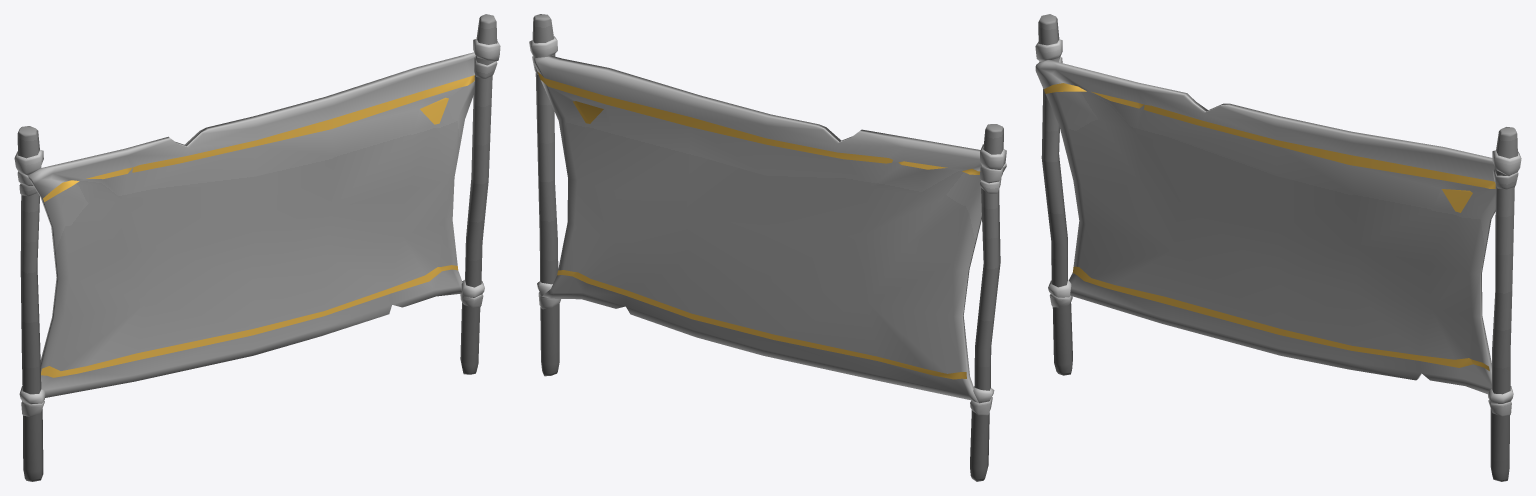
The model's file is PropScreenYellow.glb.
3 views of the same model, side by side, from view 1: azimuth 30°, elevation 25°; view 2: azimuth 150°, elevation 25°; view 3: azimuth 330°, elevation 25° (orthographic).
Visible parts, largest first — view 1: PropScreenYellow; view 2: PropScreenYellow; view 3: PropScreenYellow.
Boxes of the visible parts, x1=… form: PropScreenYellow: x1=14, y1=14, x2=500, y2=481; PropScreenYellow: x1=529, y1=14, x2=1006, y2=481; PropScreenYellow: x1=1035, y1=14, x2=1521, y2=481.
Size of the model in its own units: 35.67 by 25.27 by 2.67.
1 material, 1 textured.
